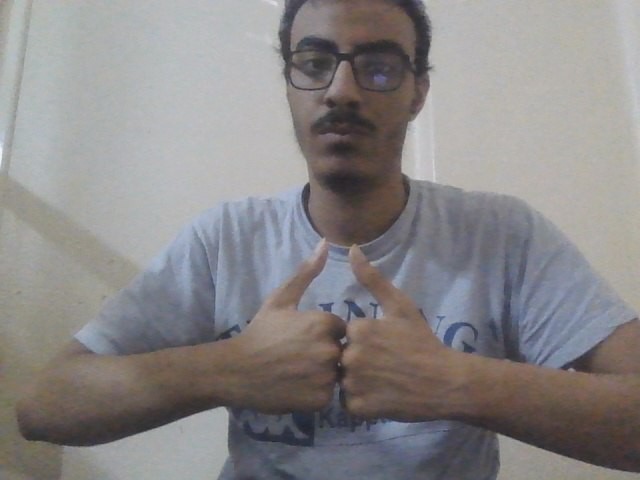Help: (221, 234, 493, 427)
